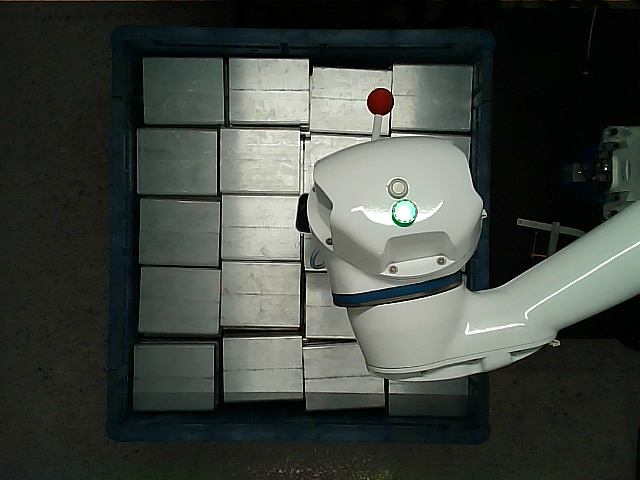green_light: (391, 199, 418, 226), (391, 199, 417, 226)
